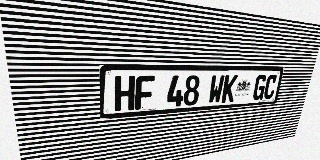4: (166, 75, 185, 107)
8: (183, 75, 201, 106)
C: (263, 74, 278, 100)
F: (135, 76, 155, 110)
G: (252, 75, 268, 100)
H: (115, 76, 135, 111)
K: (221, 75, 238, 103)
W: (207, 75, 225, 104)
